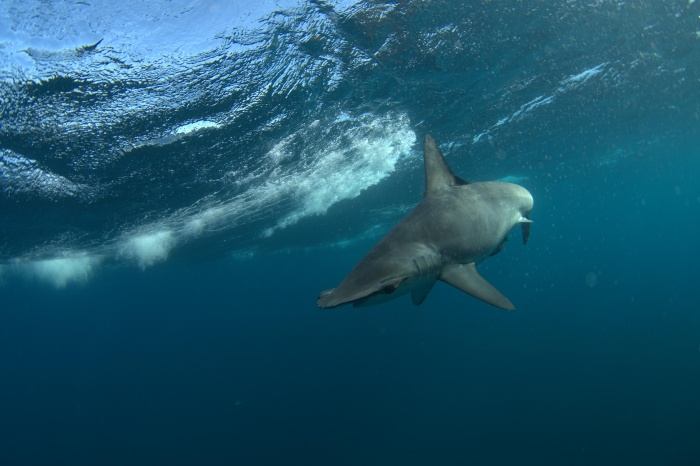Hammer: (287, 112, 568, 338)
